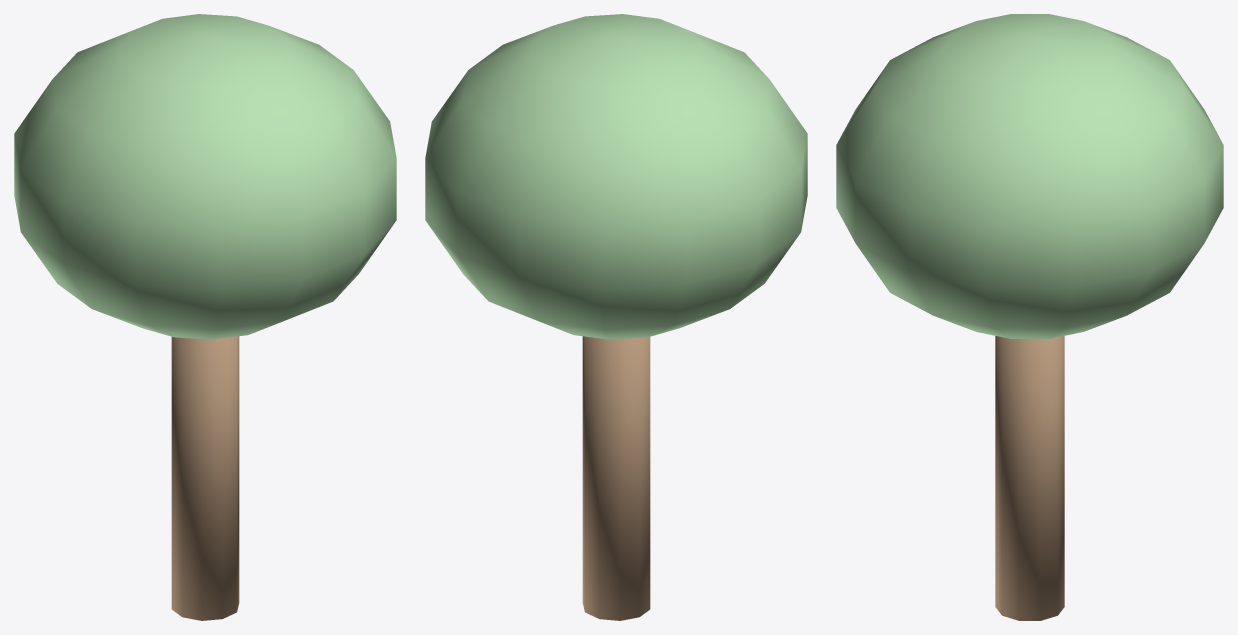
File: cozy_tree_blossom_A.glb
The picture shows the model from 3 angles, left to right: view 1: azimuth 30°, elevation 25°; view 2: azimuth 150°, elevation 25°; view 3: azimuth 270°, elevation 25°; orthographic projection.
Visible parts, largest first — view 1: Canopy, Trunk; view 2: Canopy, Trunk; view 3: Canopy, Trunk.
Part boxes in pixels (x1,y1,x2,y2): Canopy: (14, 14, 396, 339); Trunk: (171, 336, 239, 620); Canopy: (425, 14, 807, 339); Trunk: (582, 336, 650, 620); Canopy: (836, 14, 1223, 338); Trunk: (995, 336, 1064, 620).
Size of the model in its own units: 0.8744 by 1.46 by 0.8969.
